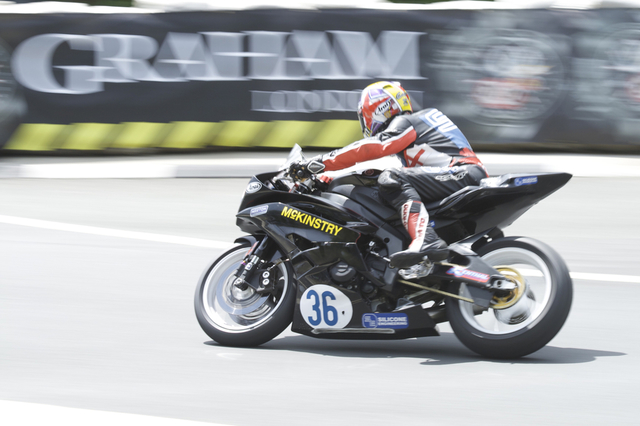helmet: (356, 83, 411, 130)
